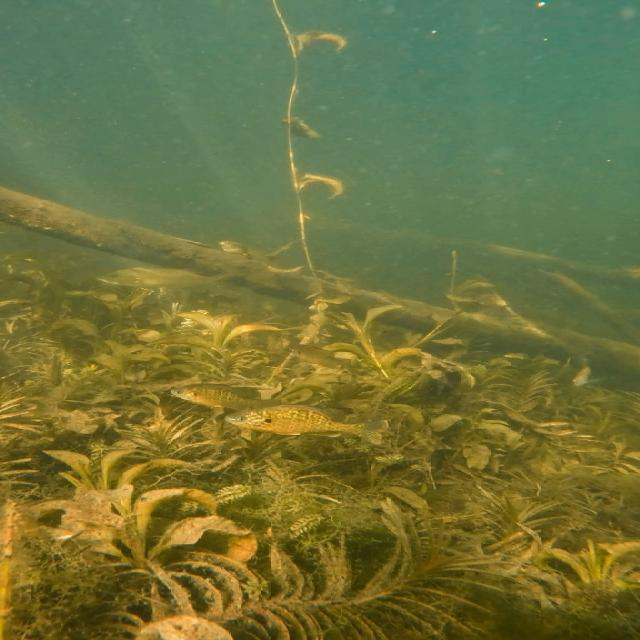Gunes Levregi: (221, 403, 390, 446), (172, 384, 256, 408)
